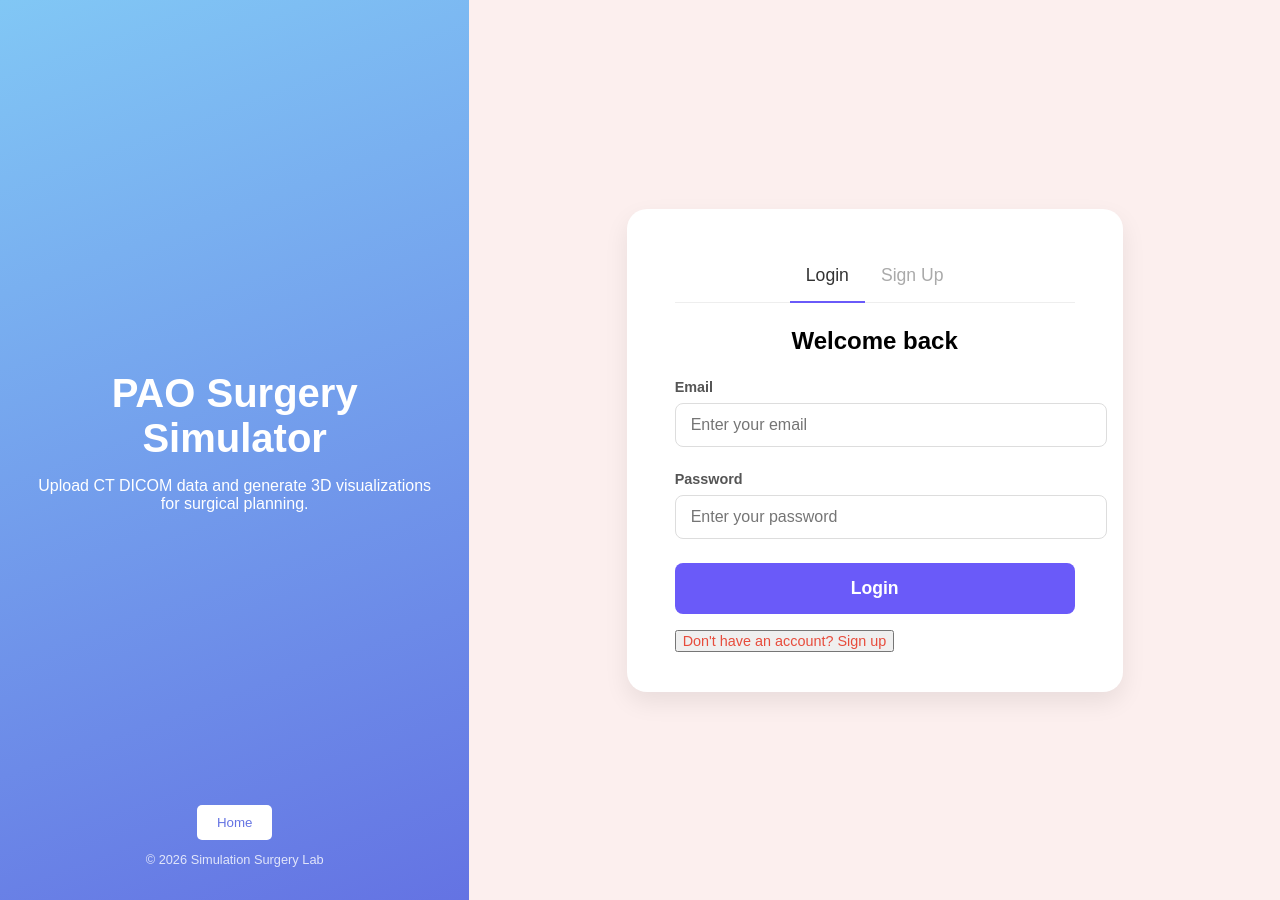
Test: invalid password does not show resend action
In the field with placeholder "Enter your email": (891, 424) x1=675 y1=402 x2=1107 y2=446, type "user@example.com"
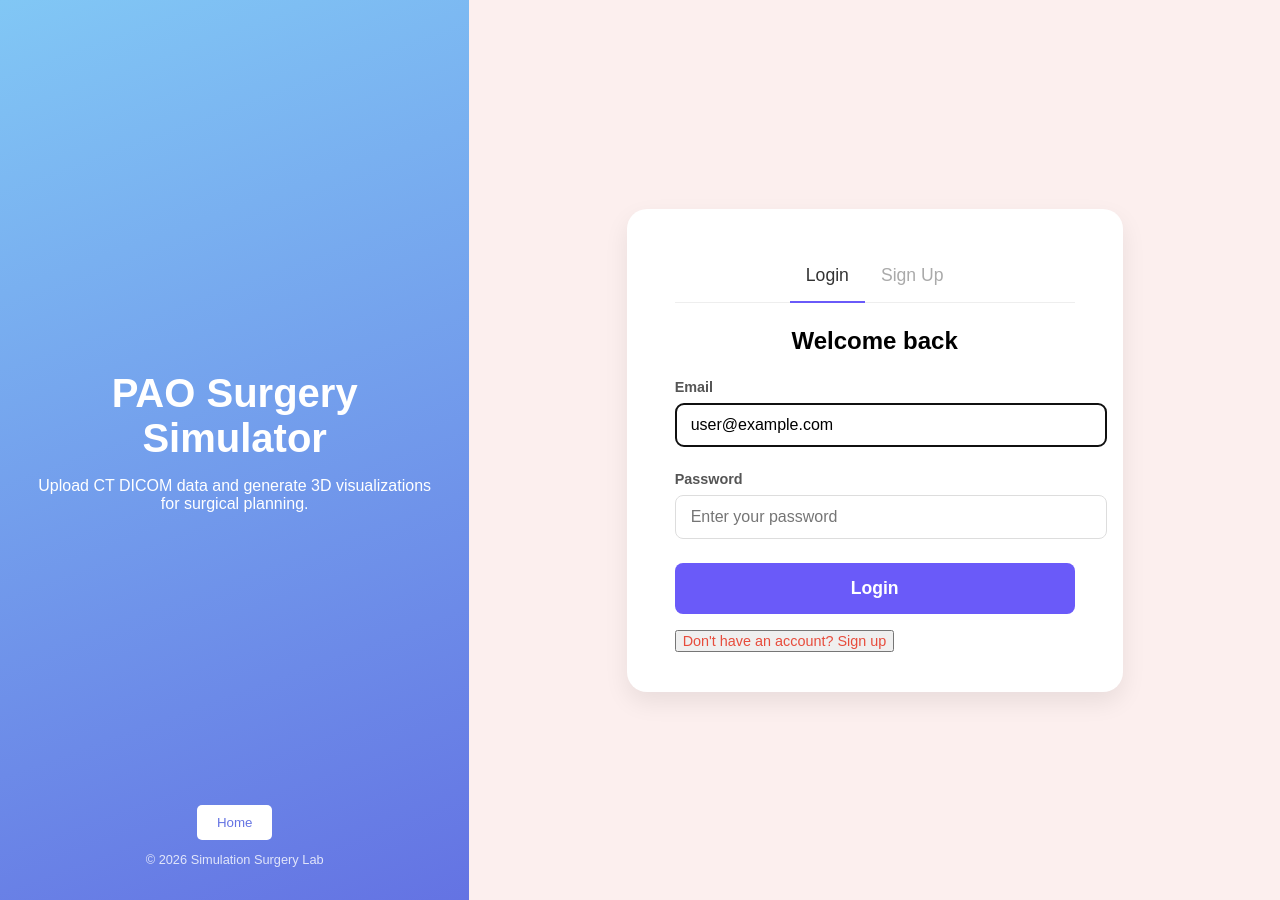
In the password field with placeholder "Enter your password": (891, 516) x1=675 y1=494 x2=1107 y2=538, type "wrongpassword"
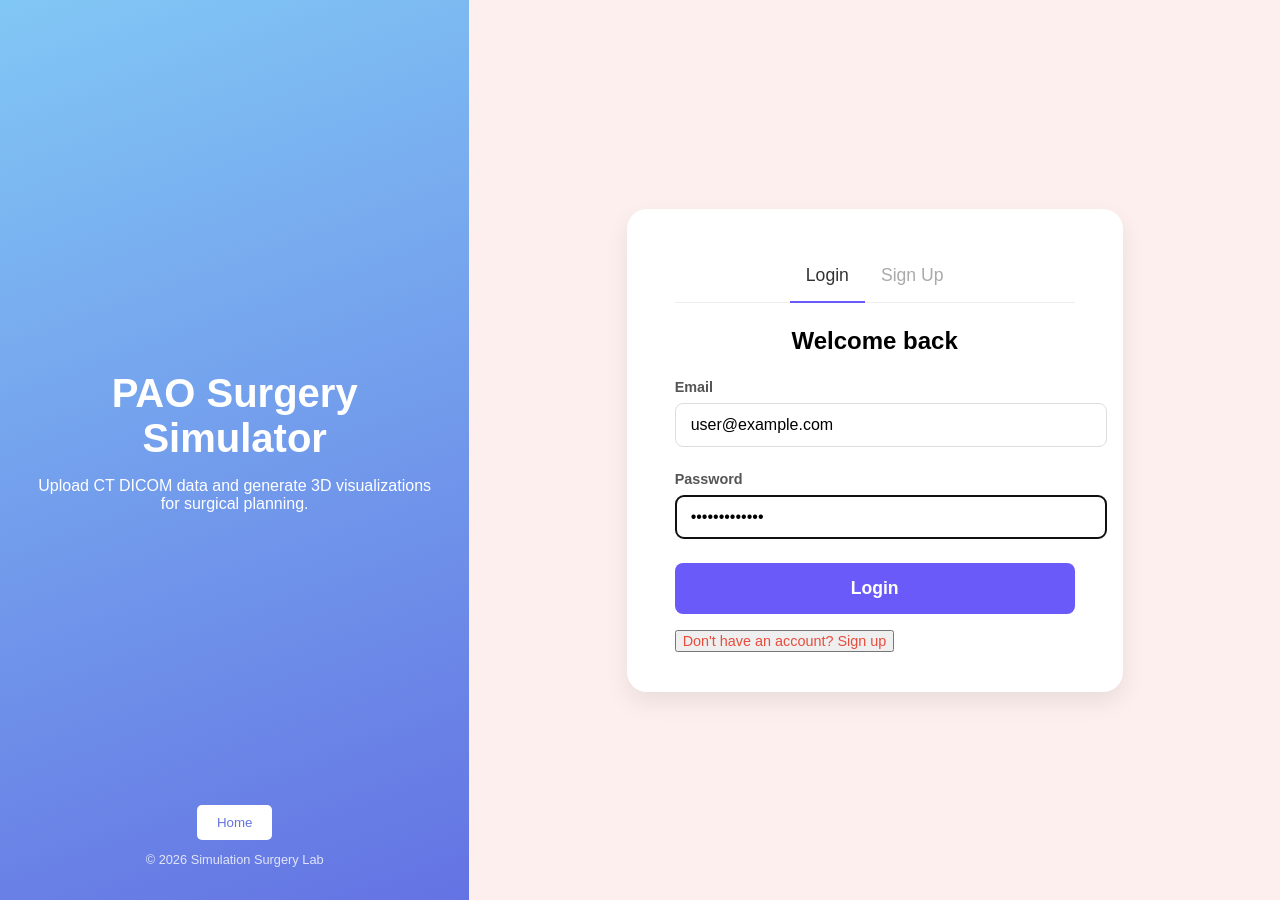
Click the button with class "submit-btn": (875, 588) x1=675 y1=562 x2=1075 y2=614
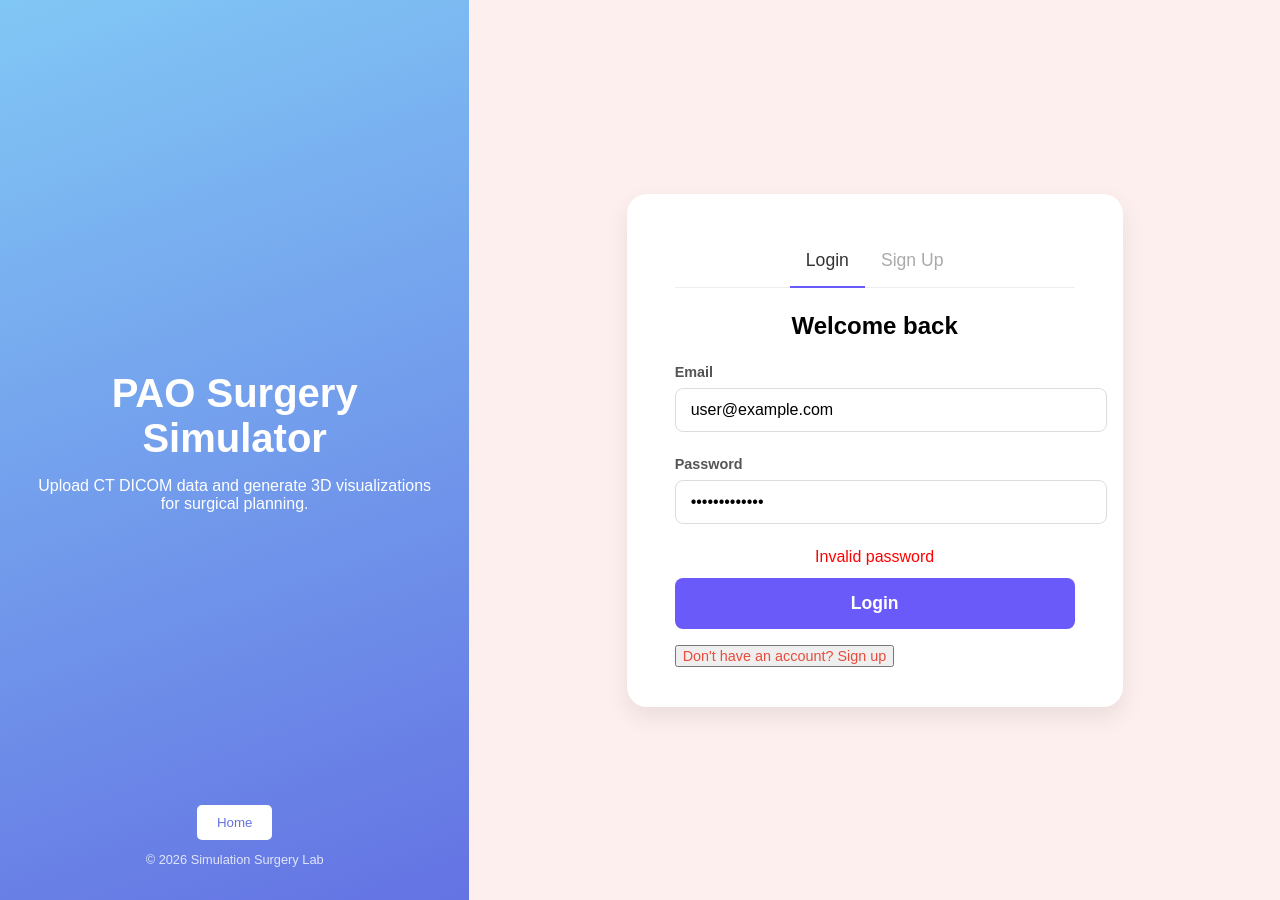
Result: the text "Invalid password" is shown at x1=815 y1=548 x2=934 y2=564
